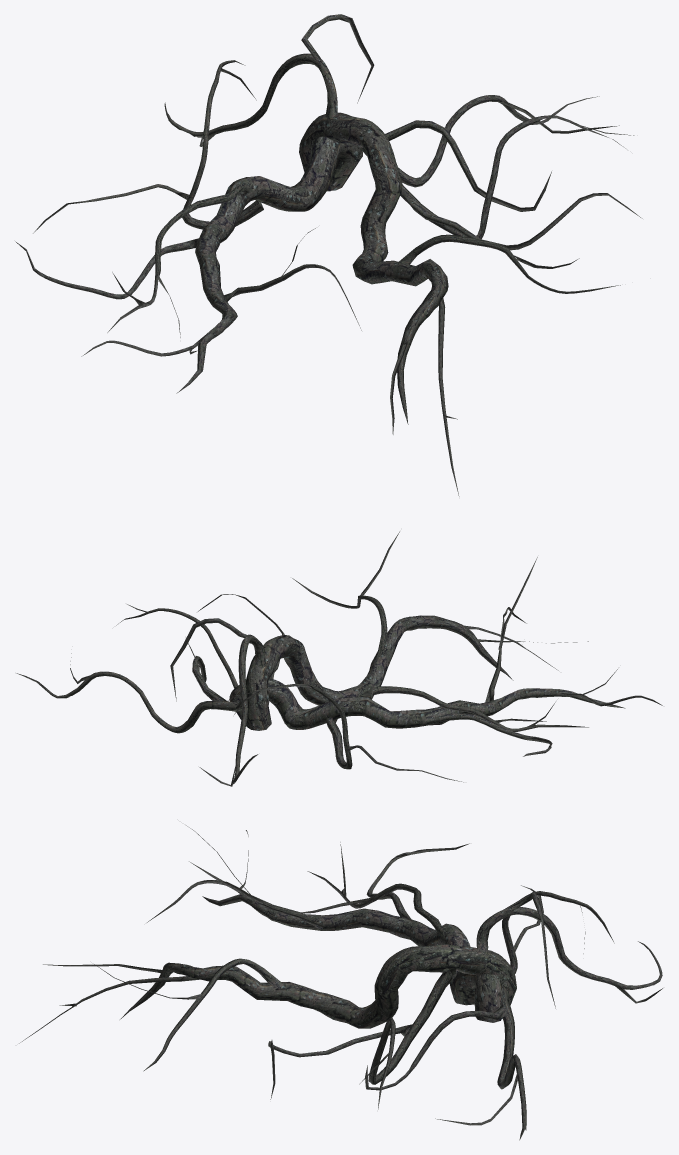
File: roots_01_LOD1.FBX
3 views of the same model, one above another, from view 1: azimuth 30°, elevation 25°; view 2: azimuth 150°, elevation 25°; view 3: azimuth 270°, elevation 25° (orthographic). The views are drawn at different scales.
Visible parts, largest first — view 1: Roots_1; view 2: Roots_1; view 3: Roots_1.
Boxes of the visible parts, box(x1,y1,x2,y2) form: Roots_1: box(15, 14, 642, 496); Roots_1: box(16, 531, 662, 786); Roots_1: box(19, 825, 662, 1140).
Size of the model in its own units: 6.93 by 2.38 by 6.34.
